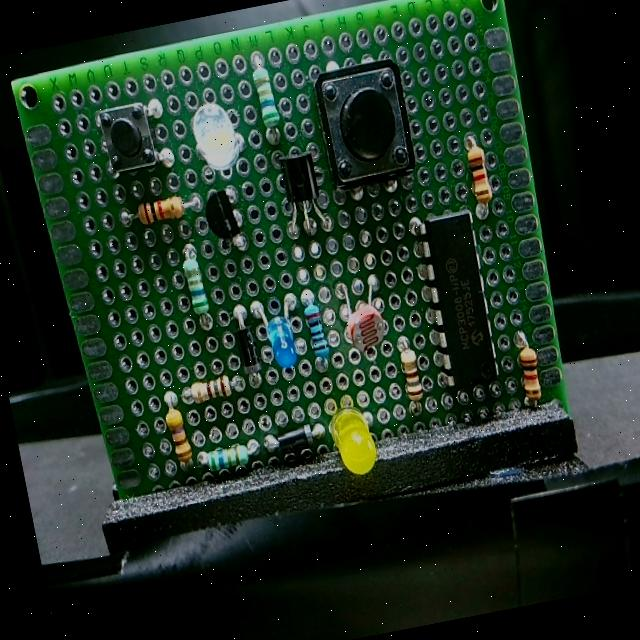IC: (403, 202, 511, 406)
cds: (332, 267, 401, 366)
diode: (223, 296, 270, 399), (260, 418, 335, 476)
led: (318, 385, 388, 490), (180, 94, 259, 187), (243, 285, 315, 374)
resistor: (452, 127, 507, 230), (108, 187, 208, 243), (240, 44, 288, 150), (171, 240, 220, 338), (388, 329, 435, 429), (504, 321, 550, 422), (156, 387, 202, 482), (298, 278, 339, 375), (194, 435, 268, 488), (178, 371, 250, 416)
switch: (306, 42, 426, 205), (85, 92, 188, 192)
transistor: (266, 142, 340, 248), (191, 176, 258, 268)
